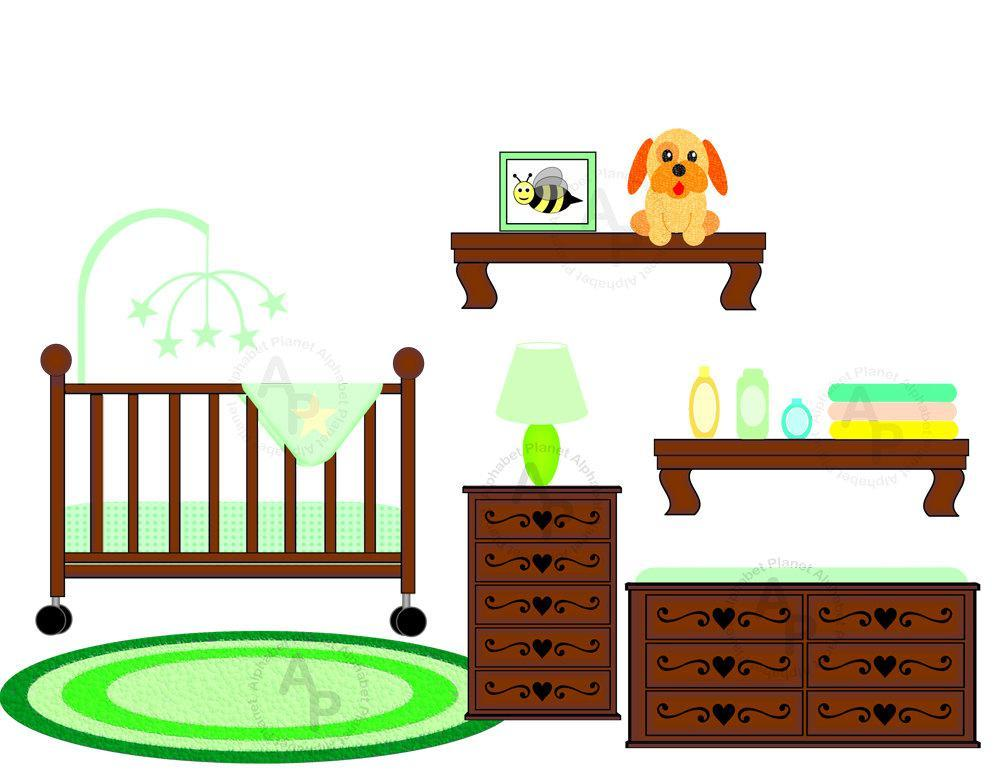bottle: (735, 364, 772, 438), (685, 362, 720, 436), (780, 395, 815, 440)
dog: (618, 124, 733, 247)
